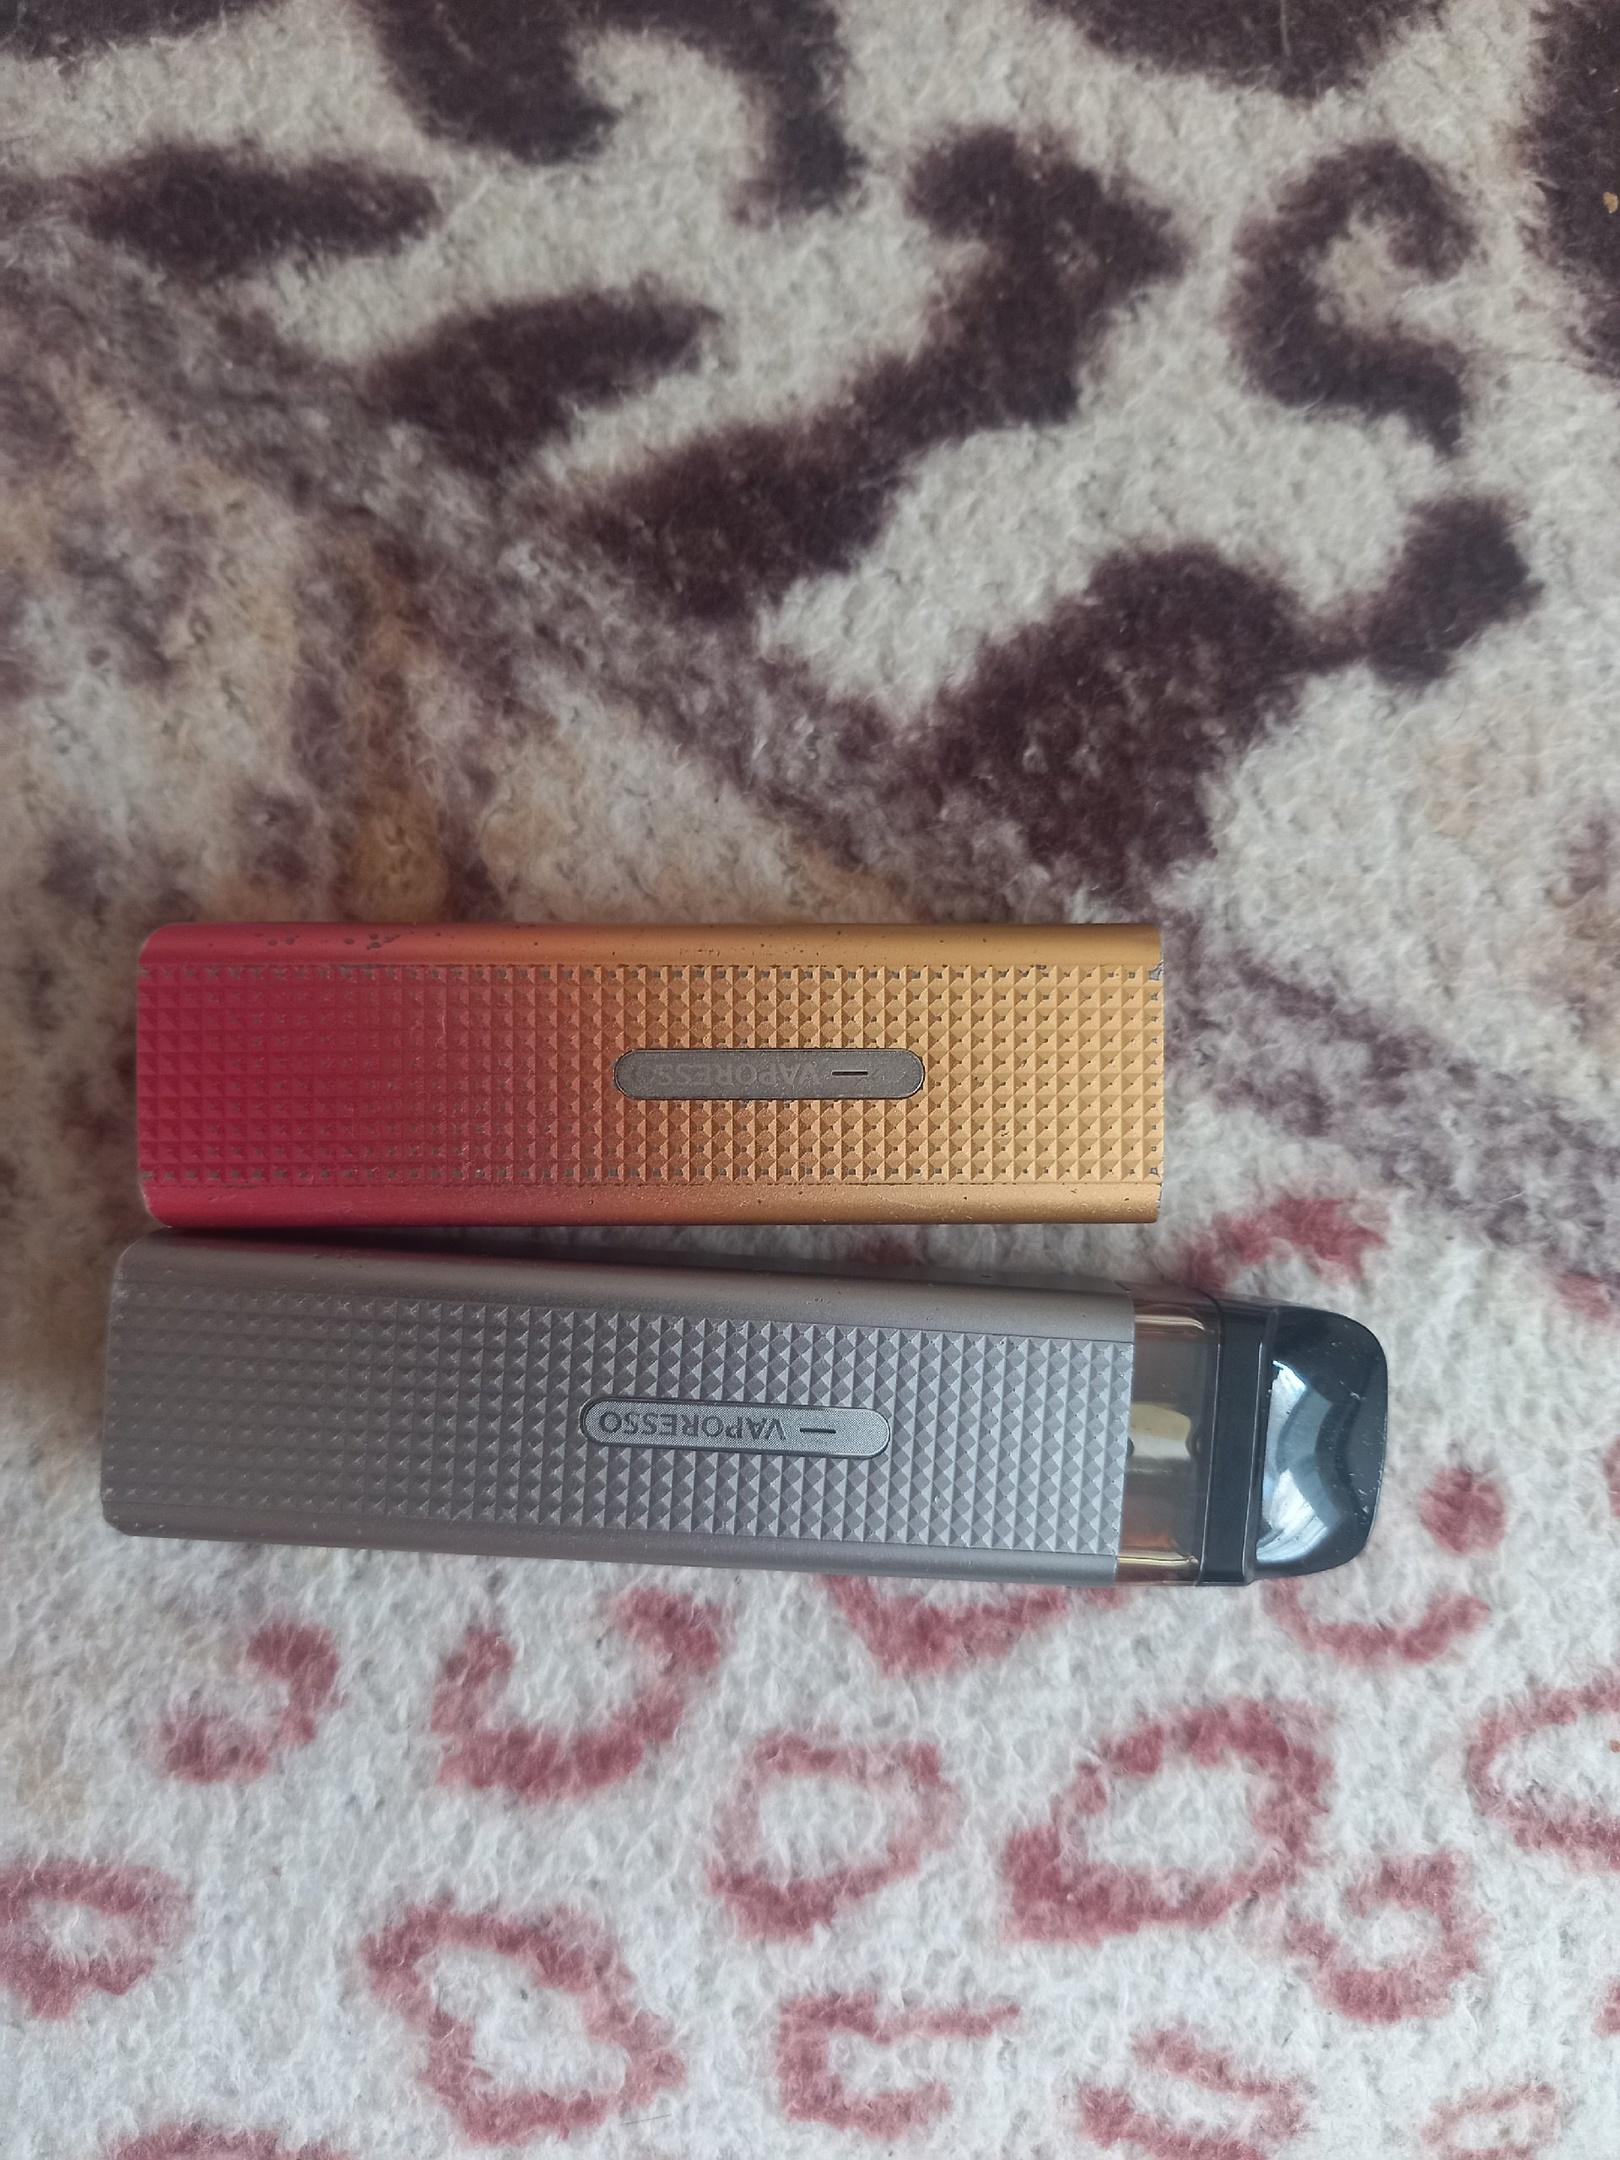Vape: (104, 1235, 1385, 1585)
